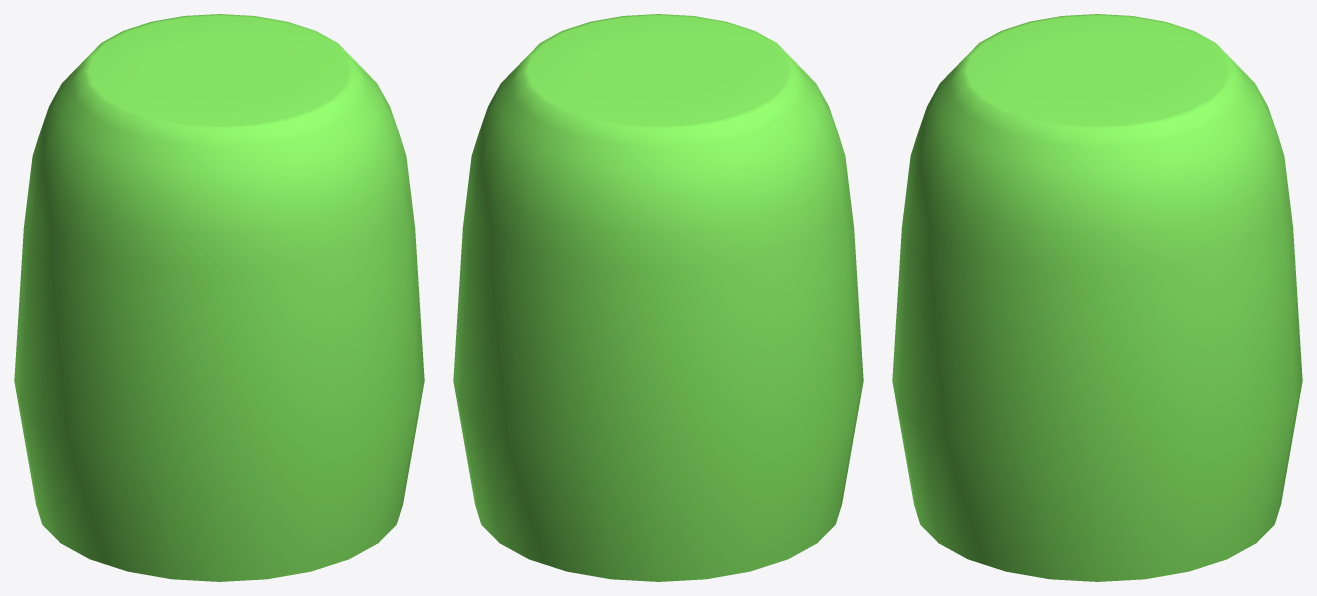
Rendered from Hill V1.fbx.
3 views of the same model, side by side, from view 1: azimuth 30°, elevation 25°; view 2: azimuth 150°, elevation 25°; view 3: azimuth 270°, elevation 25° (orthographic).
Visible parts, largest first — view 1: hil; view 2: hil; view 3: hil.
Boxes of the visible parts, bbox=[...] form: hil: bbox=[14, 14, 424, 581]; hil: bbox=[453, 14, 863, 581]; hil: bbox=[892, 14, 1302, 581].
Bounding box in the file's own units: 1089 × 1286 × 1089.
